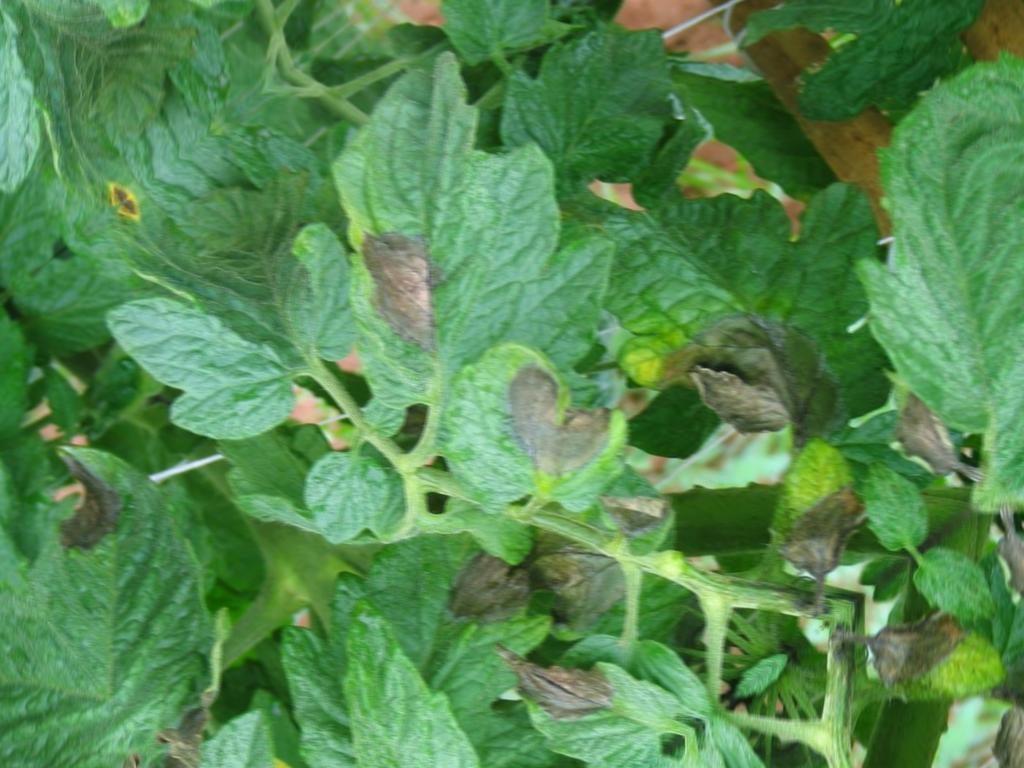Tomato leaf late blight: (544, 64, 996, 528), (221, 25, 668, 481), (403, 307, 649, 553), (723, 412, 917, 611), (496, 591, 695, 768)
